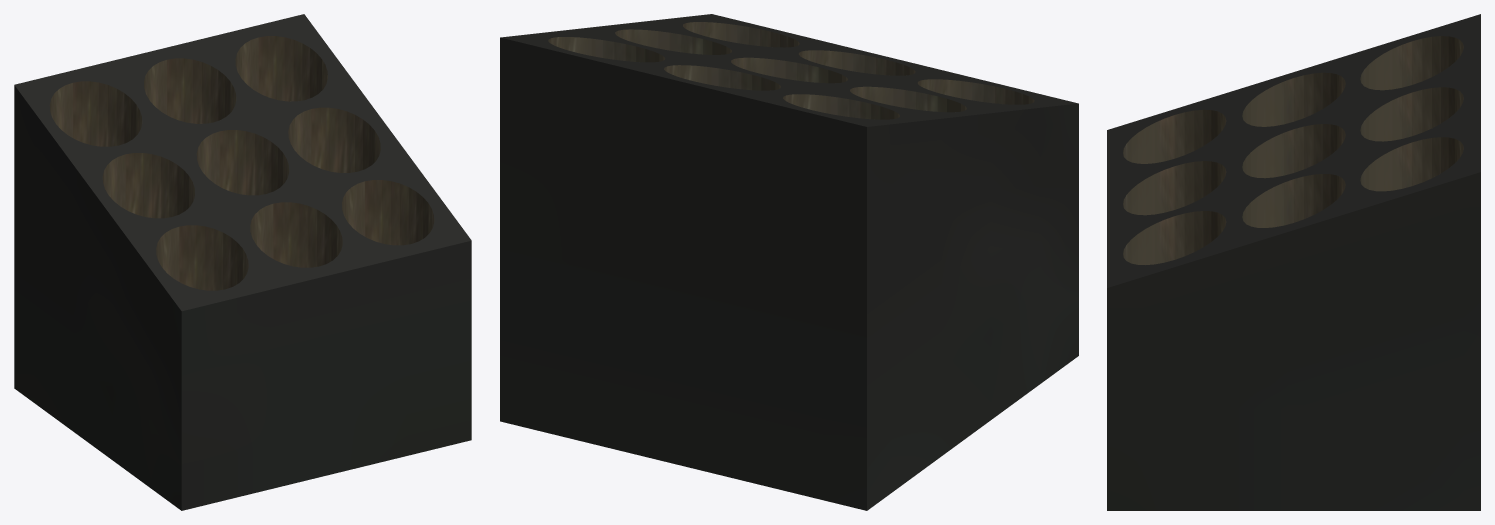
Rendered from whackbox.glb.
3 renders of one model, left to right at view 1: azimuth 30°, elevation 25°; view 2: azimuth 150°, elevation 25°; view 3: azimuth 270°, elevation 25°, orthographic. The views are drawn at different scales.
Visible parts, largest first — view 1: Cube; view 2: Cube; view 3: Cube.
Boxes of the visible parts, x1,y1,x2,y2 form: Cube: (14,14,471,510); Cube: (500,14,1078,510); Cube: (1107,14,1480,510).
Size of the model in its own units: 2 by 2 by 2.
Materials: 1 (1 with a texture image).
